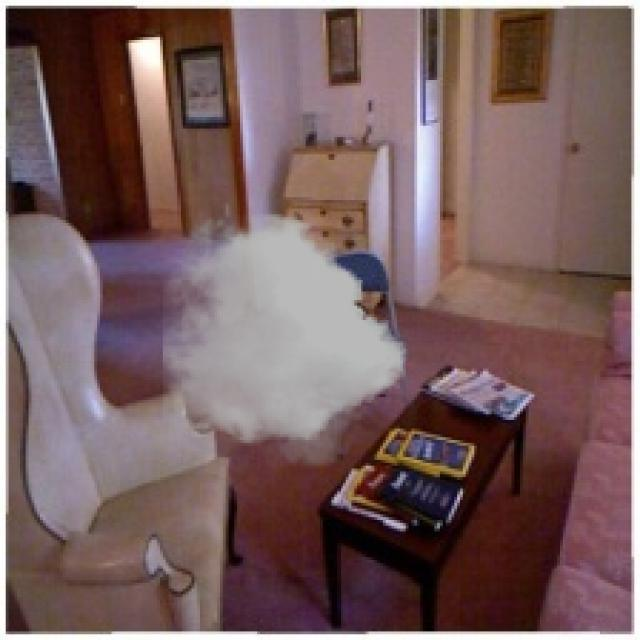Smoke: (163, 208, 406, 474)
